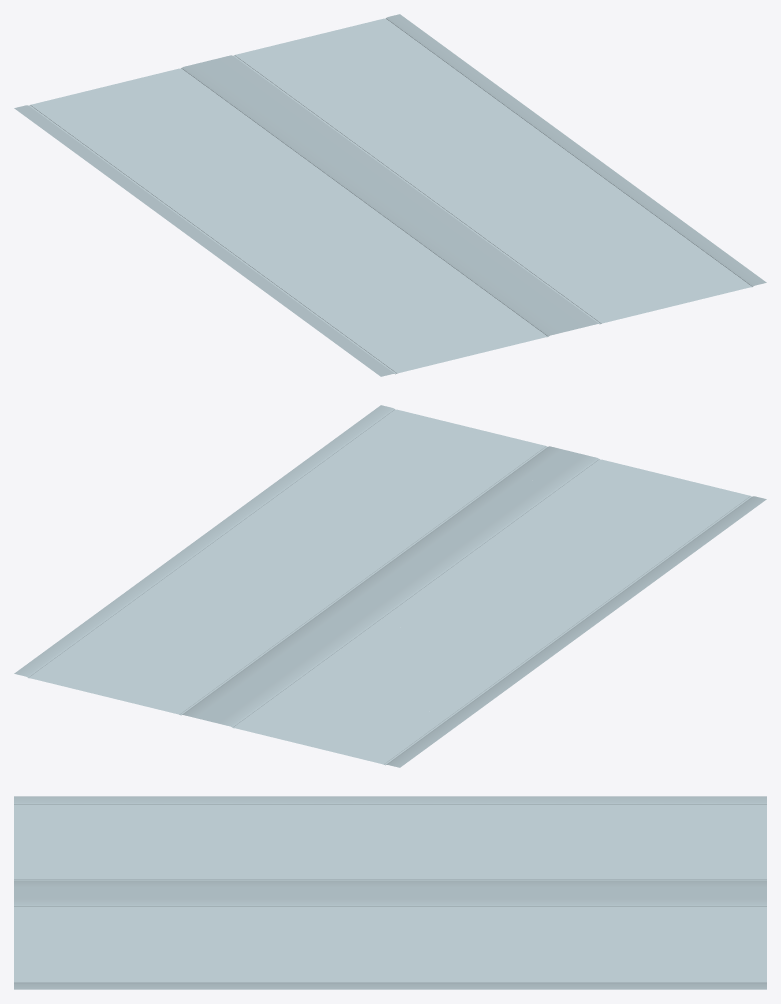
File: roadTile.fbx
3 renders of one model, top to bottom at view 1: azimuth 30°, elevation 25°; view 2: azimuth 150°, elevation 25°; view 3: azimuth 270°, elevation 25°, orthographic. The views are drawn at different scales.
Parts seen in each view (by area): view 1: roadEdge.005; view 2: roadEdge.005; view 3: roadEdge.005.
Boxes of the visible parts, bbox=[...] form: roadEdge.005: bbox=[14, 14, 766, 376]; roadEdge.005: bbox=[14, 405, 766, 767]; roadEdge.005: bbox=[14, 796, 766, 989].
Bounding box in the file's own units: 1700 × 3.75 × 2800.
